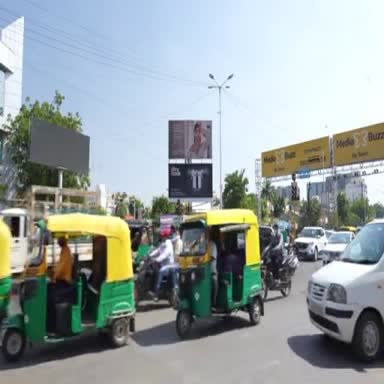Car: (306, 219, 383, 363), (322, 232, 355, 266), (294, 227, 326, 261), (260, 226, 274, 253), (325, 230, 334, 238)
